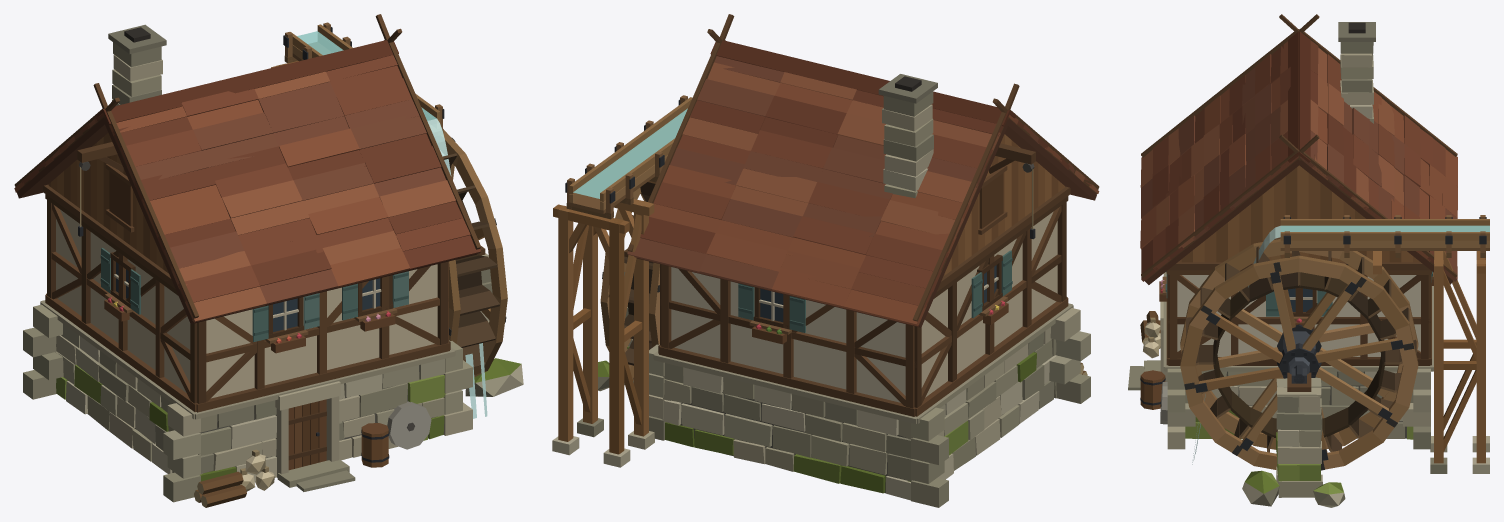
The model's file is river_mill.glb.
3 views of the same model, side by side, from view 1: azimuth 30°, elevation 25°; view 2: azimuth 150°, elevation 25°; view 3: azimuth 270°, elevation 25° (orthographic). The views are drawn at different scales.
Parts seen in each view (by area): view 1: river_mill; view 2: river_mill; view 3: river_mill.
Boxes of the visible parts, <box> form: river_mill: <box>14,14,523,507</box>; river_mill: <box>552,14,1099,507</box>; river_mill: <box>1128,14,1489,507</box>.
Bounding box in the file's own units: 12.63 × 11.32 × 10.63.
